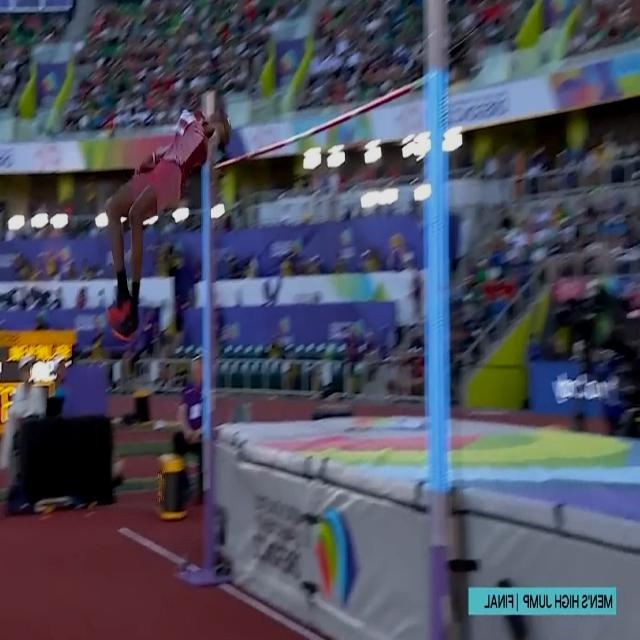jump: (103, 100, 232, 344)
